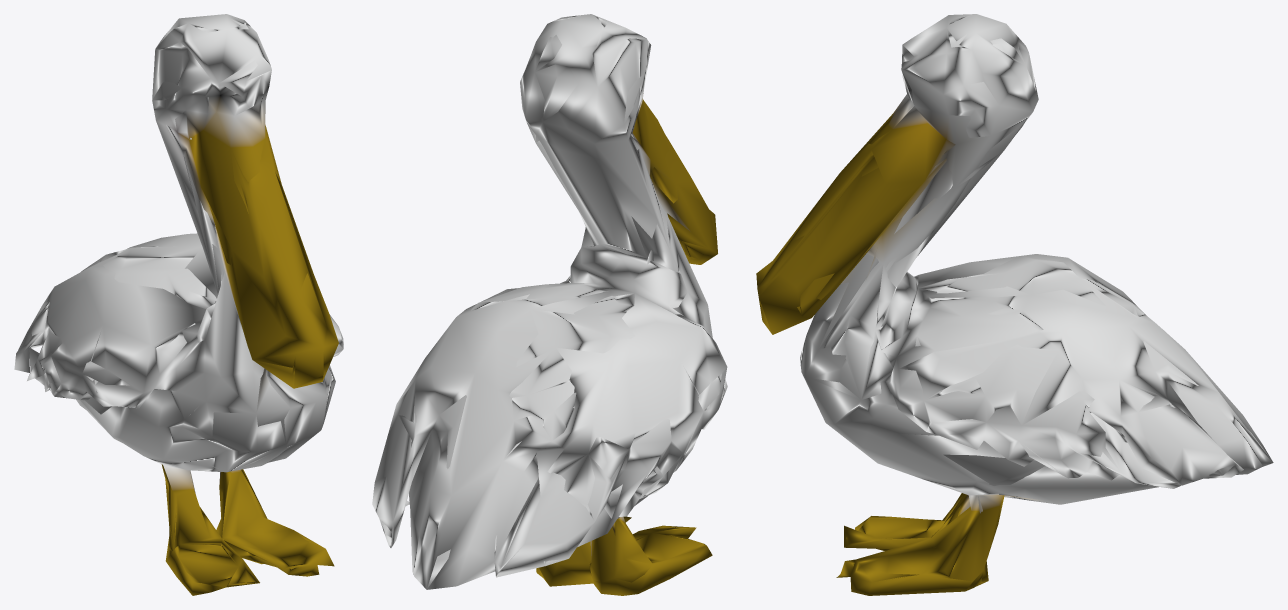
Rendered from gen3d-pelican-lod0.glb.
3 views of the same model, side by side, from view 1: azimuth 30°, elevation 25°; view 2: azimuth 150°, elevation 25°; view 3: azimuth 270°, elevation 25° (orthographic). The views are drawn at different scales.
Visible parts, largest first — view 1: part_0; view 2: part_0; view 3: part_0.
Part boxes in pixels (x1=…): part_0: x1=14, y1=14, x2=343, y2=595; part_0: x1=372, y1=14, x2=727, y2=595; part_0: x1=756, y1=14, x2=1273, y2=595.
Bounding box in the file's own units: 0.4817 × 0.9963 × 0.8566.
